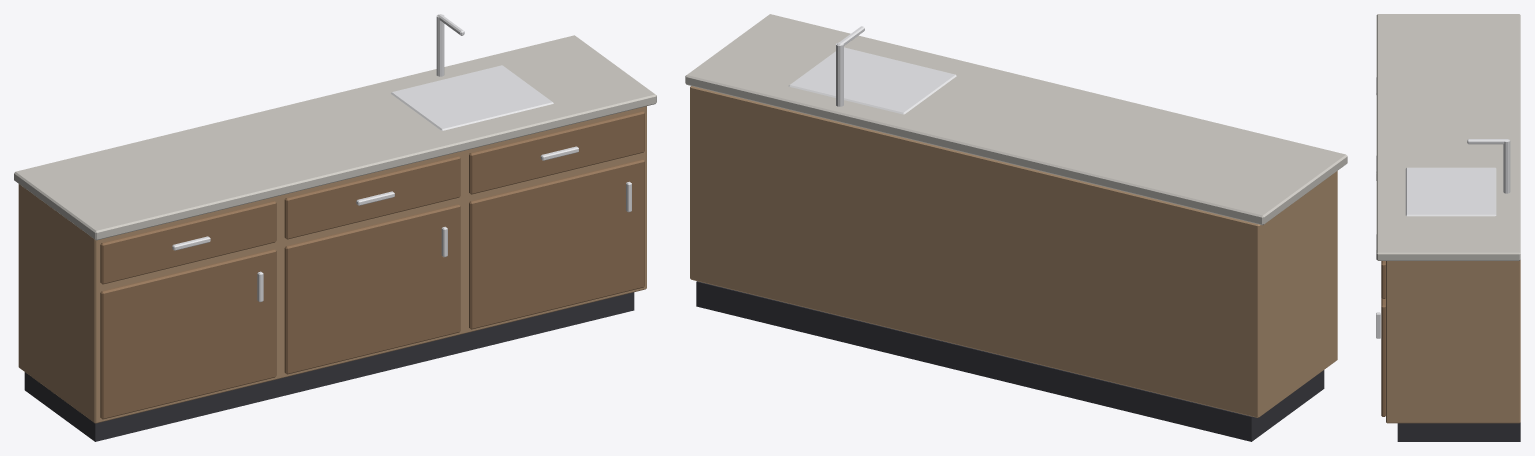
Rendered from kitchen_base.fbx.
3 views of the same model, side by side, from view 1: azimuth 30°, elevation 25°; view 2: azimuth 150°, elevation 25°; view 3: azimuth 270°, elevation 25° (orthographic). The views are drawn at different scales.
Visible parts, largest first — view 1: Body, Door_0, Door_1, Door_2, Drawer_1, Drawer_0, Drawer_2; view 2: Body; view 3: Body, Door_2, Drawer_2.
Part boxes in pixels (x1,y1,x2,y2): Body: (14,14,656,441); Door_0: (100,249,276,419); Door_1: (284,204,460,374); Door_2: (469,159,644,329); Drawer_1: (284,156,460,239); Drawer_0: (100,201,276,284); Drawer_2: (469,111,644,194); Body: (685,14,1347,441); Body: (1376,14,1520,441); Door_2: (1376,298,1385,416); Drawer_2: (1376,234,1385,298).
Size of the model in its own units: 2.44 by 1.17 by 0.622.
